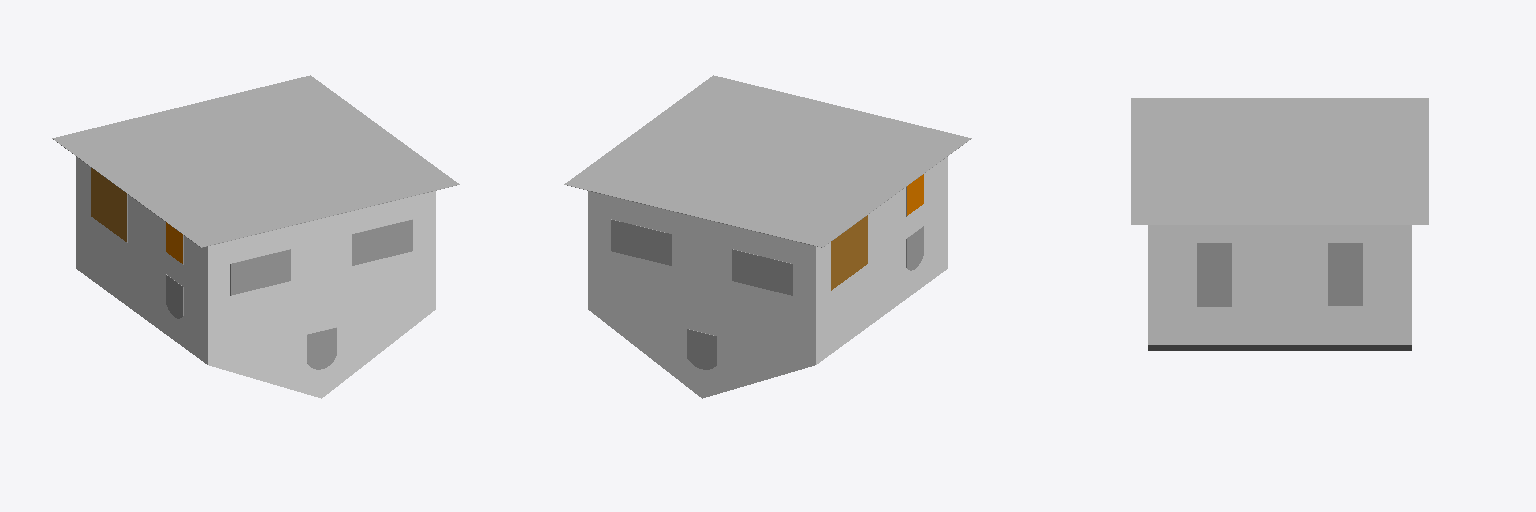
The model's file is Parthouser.obj.
3 views of the same model, side by side, from view 1: azimuth 30°, elevation 25°; view 2: azimuth 150°, elevation 25°; view 3: azimuth 270°, elevation 25° (orthographic).
Parts seen in each view (by area): view 1: Solid2; view 2: Solid2; view 3: Solid2.
Part boxes in pixels (left/top/right/bottom): Solid2: left=52, top=75, right=459, bottom=398; Solid2: left=564, top=75, right=971, bottom=398; Solid2: left=1131, top=98, right=1428, bottom=350.
Size of the model in its own units: 85 by 59.39 by 85.